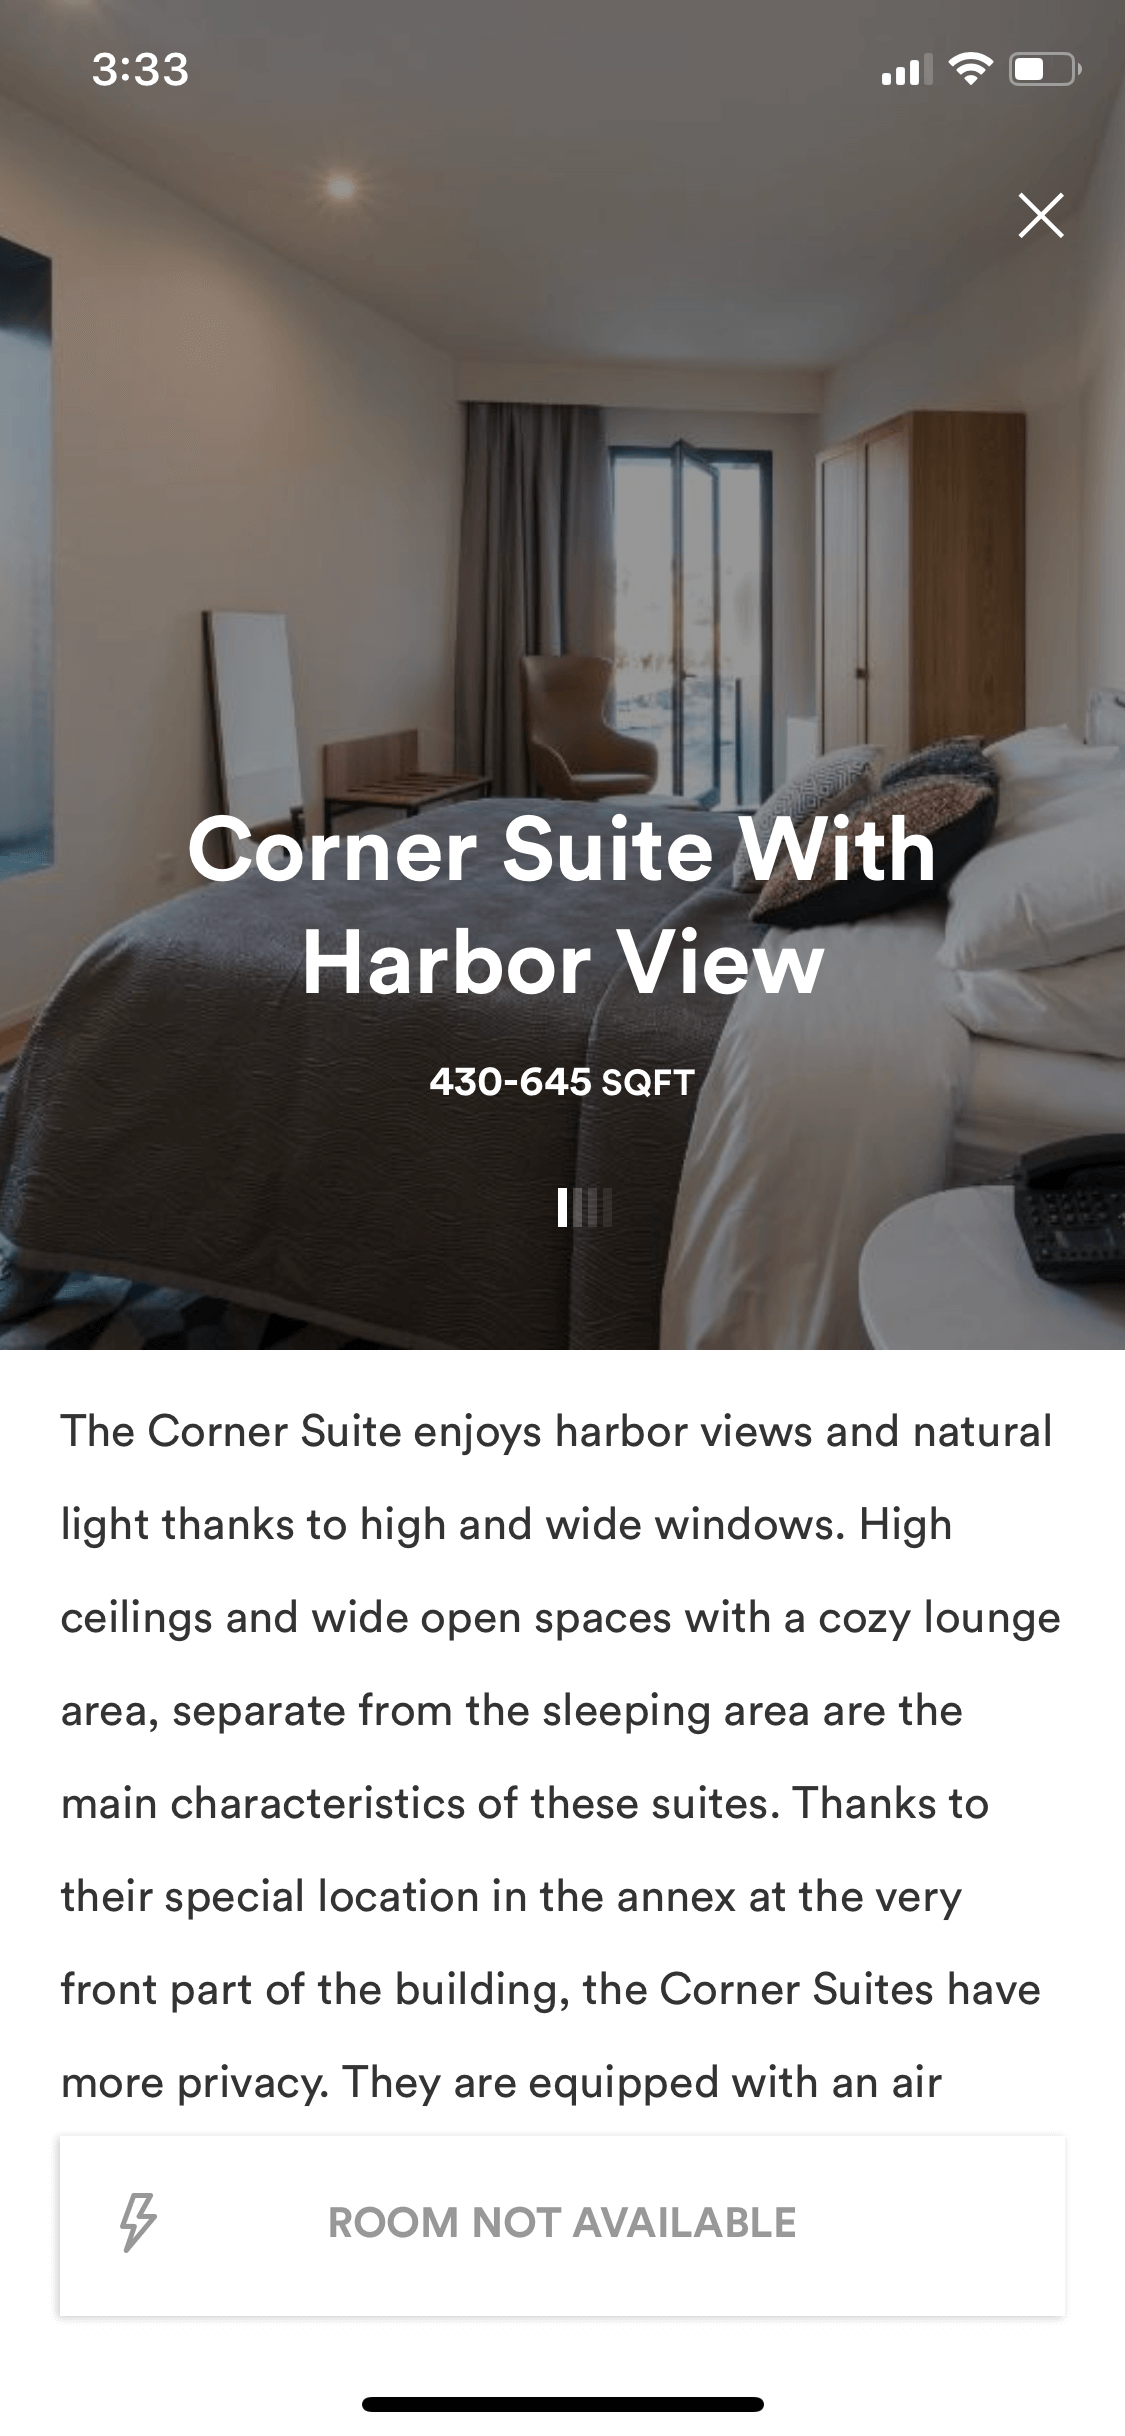Buttons: (44, 2118, 1083, 2341), (977, 151, 1109, 280)
Page Controls: (527, 1161, 632, 1243)
